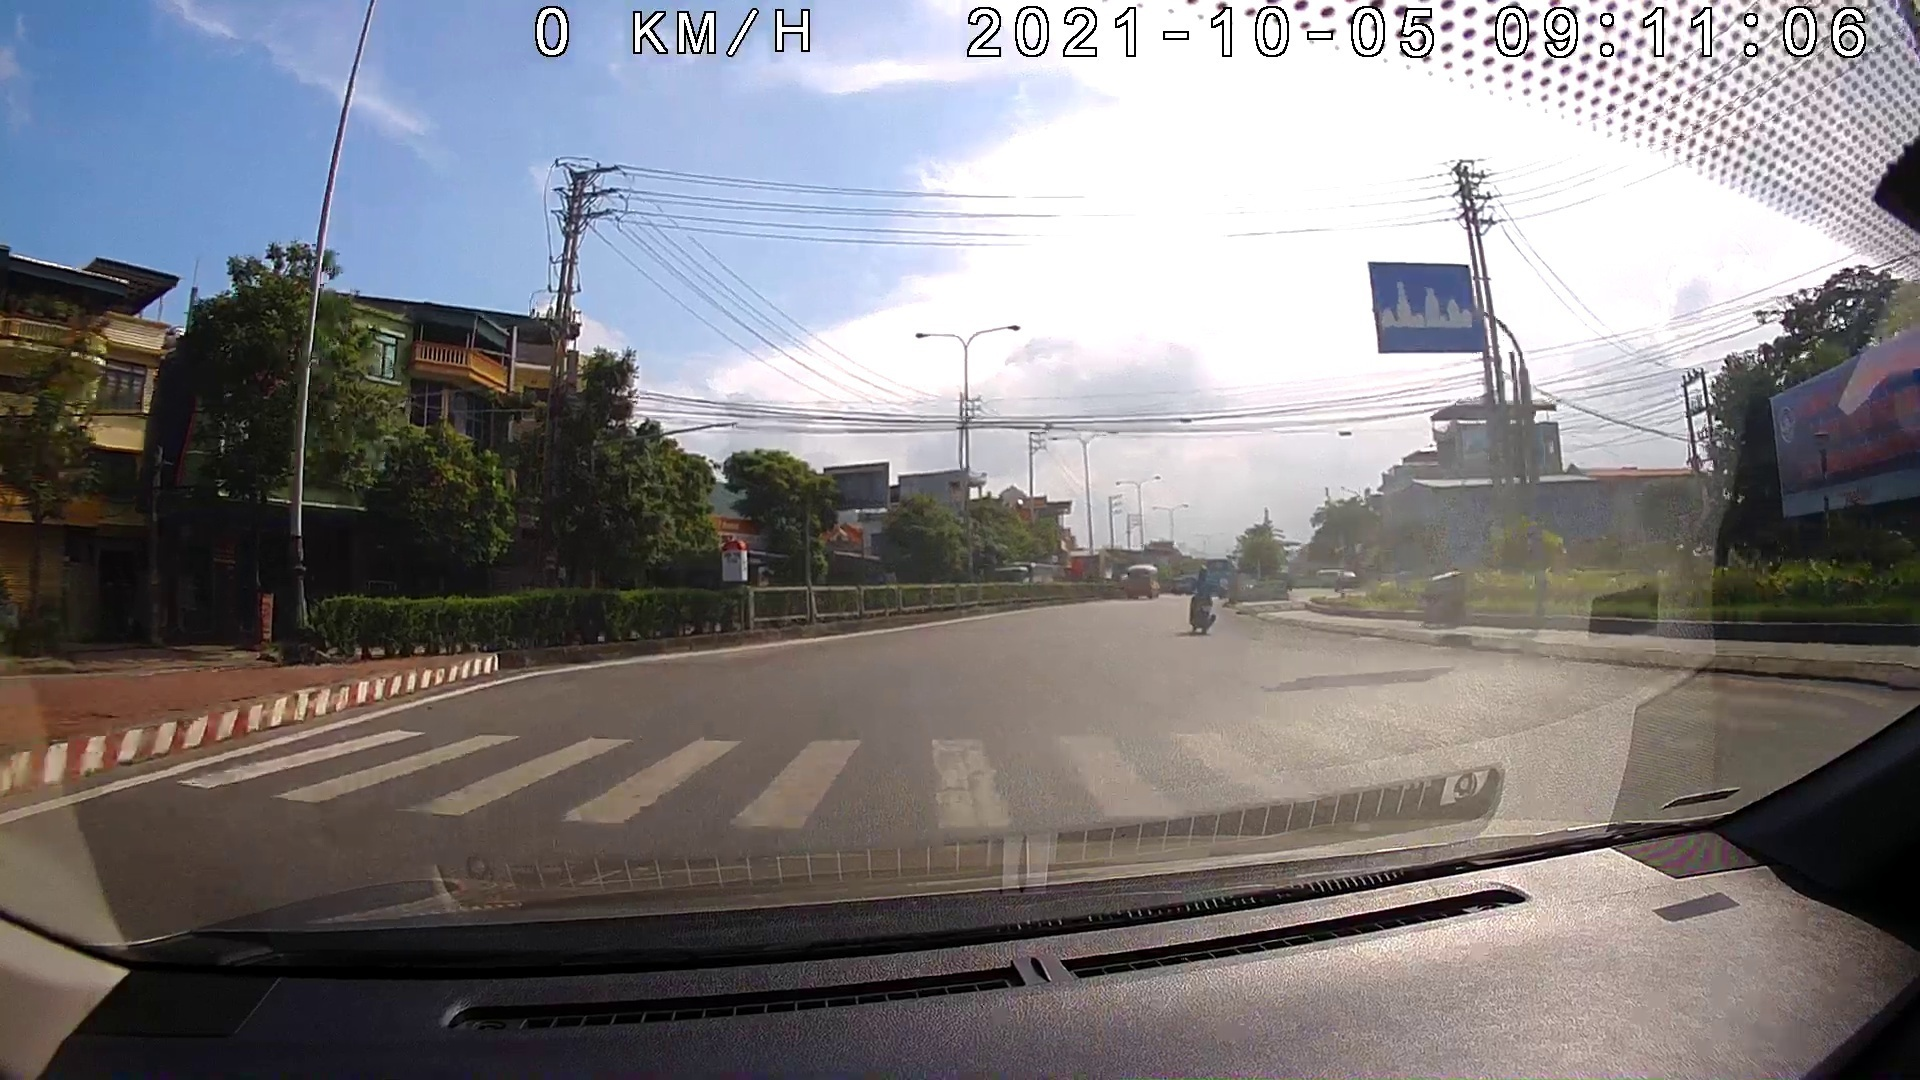Bien khac: (1364, 255, 1489, 359)
